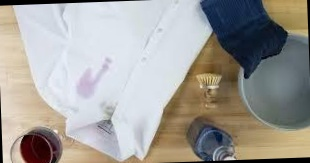wine: (71, 65, 101, 103), (99, 55, 117, 80)
